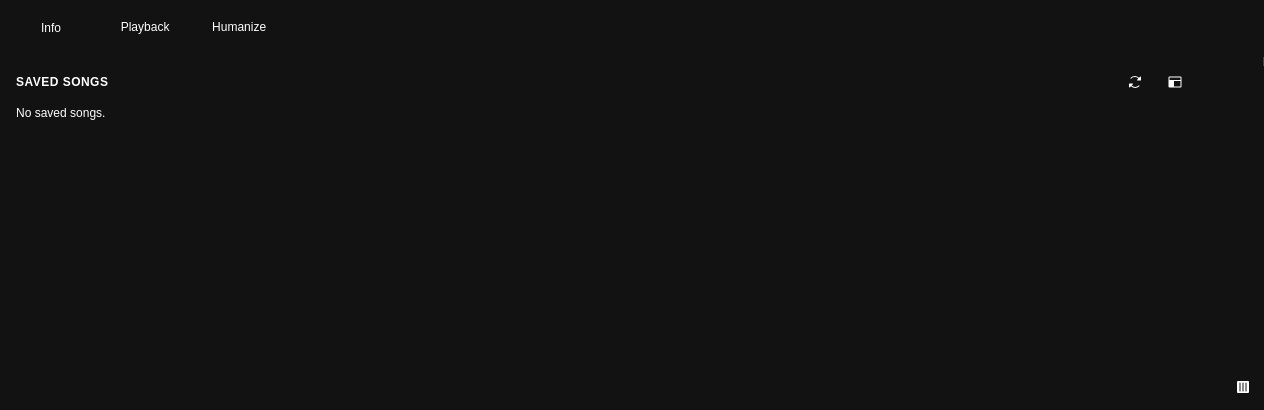
Scenario: PlaybackTab generate pedal events button follows the pedal style › is disabled when the pedal style is None
The width and height of the screenshot is (1264, 410).
Click the button "Playback": (145, 27) [102, 12, 188, 42]
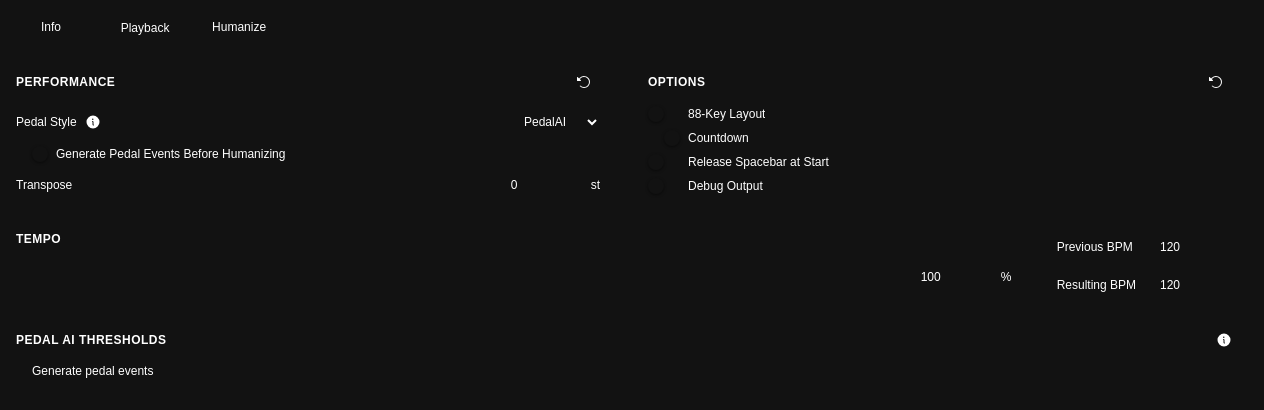
Expected: the button "Generate pedal events" is shown, [16, 356, 169, 386]
Select "None" in the dropdown: (556, 122) [512, 106, 600, 138]
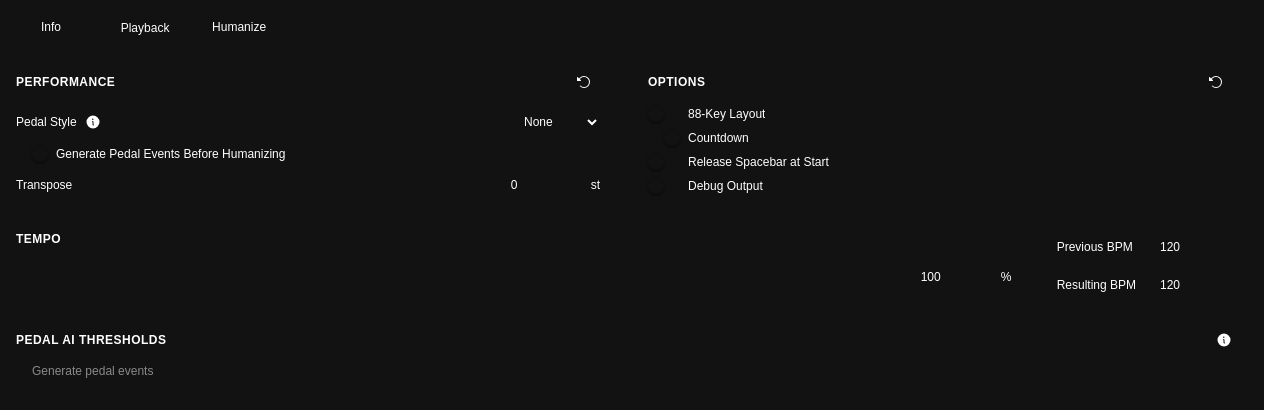
Expected: the button "Generate pedal events" is disabled, [16, 356, 169, 386]
